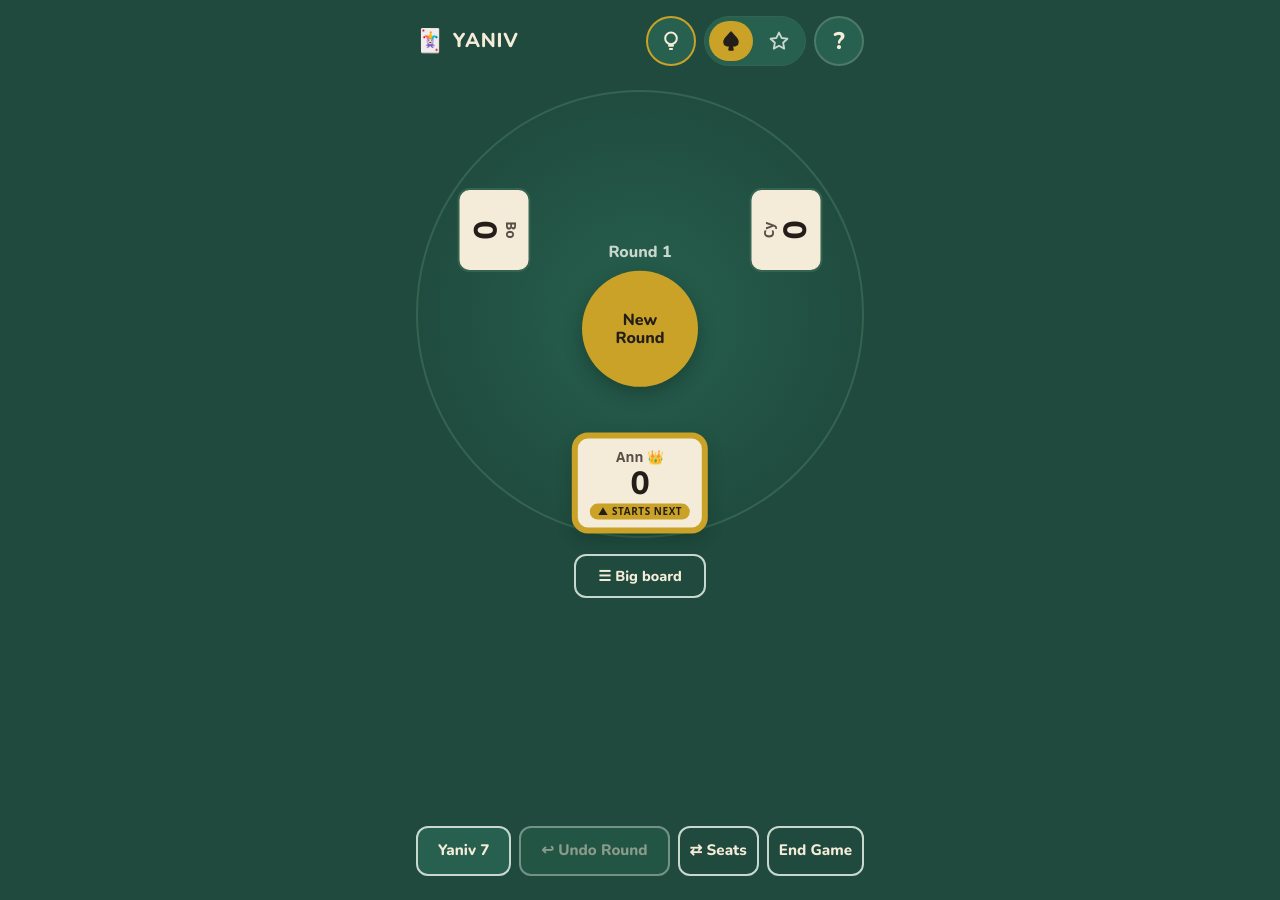
Scenario: Help — entry point on both screens › opens Help from the Play screen via the "?" button
Click the button named "Help" at (839, 41), box [814,16,864,66]
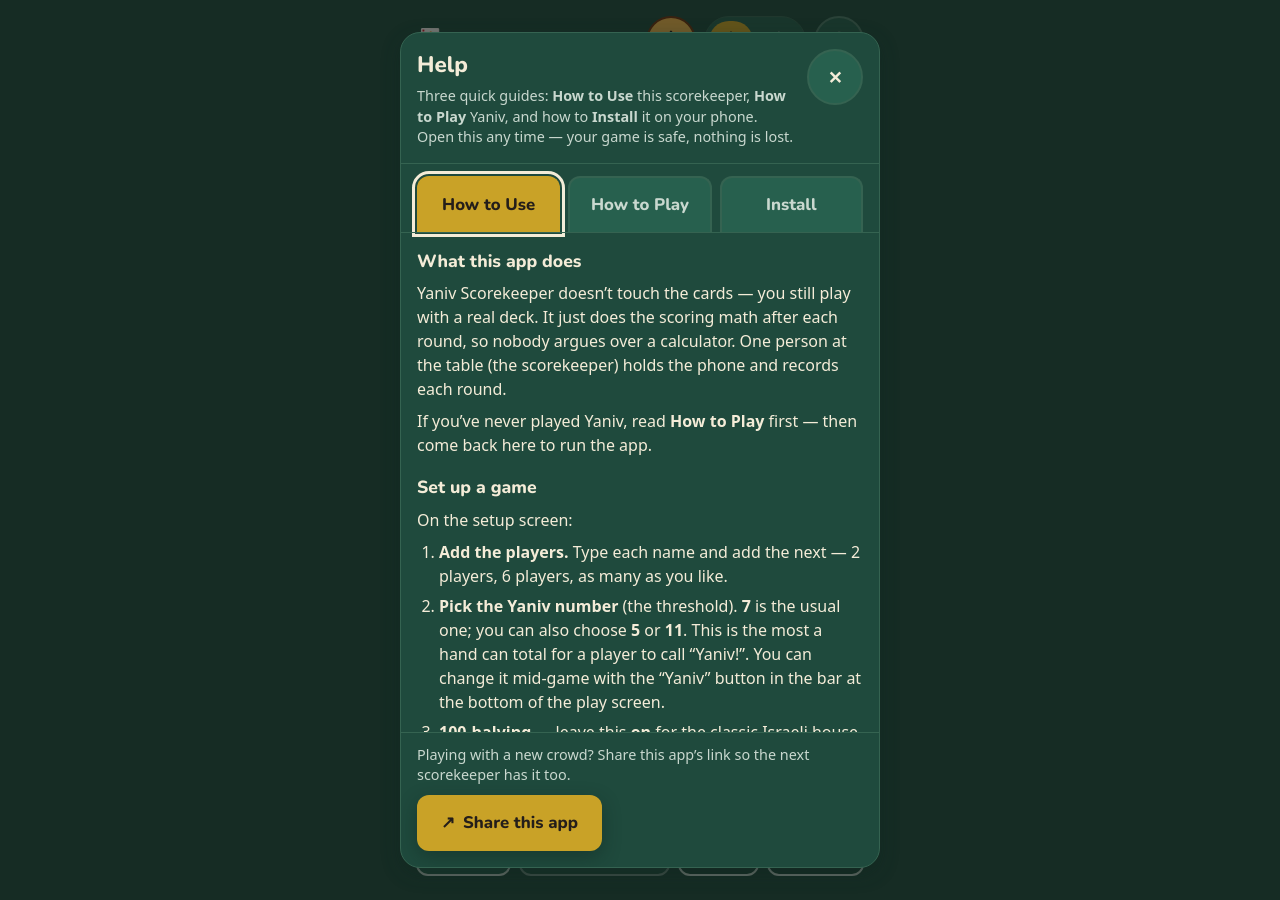
Expected: the dialog is shown, [400,32,880,868]
